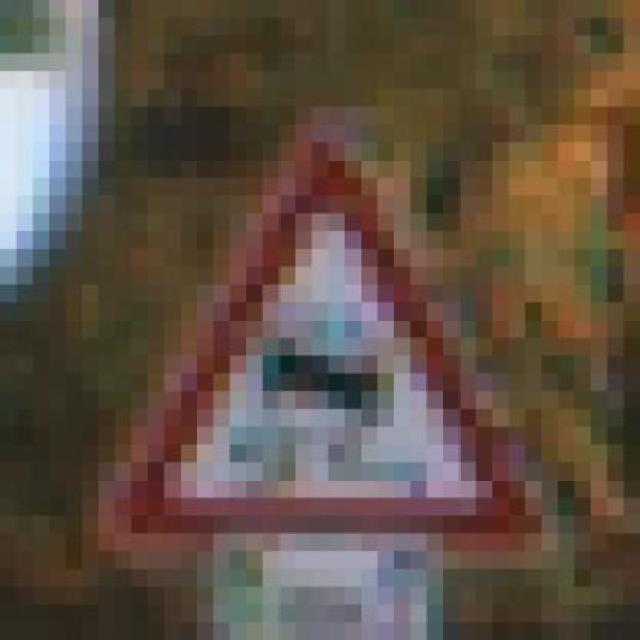Slippery Road Ahead: (99, 71, 558, 551)
